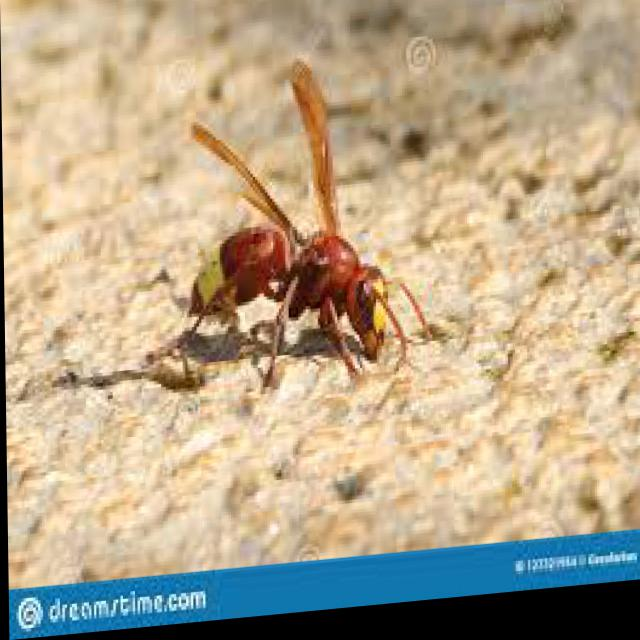Vespa Orientalis: (112, 42, 447, 461)
